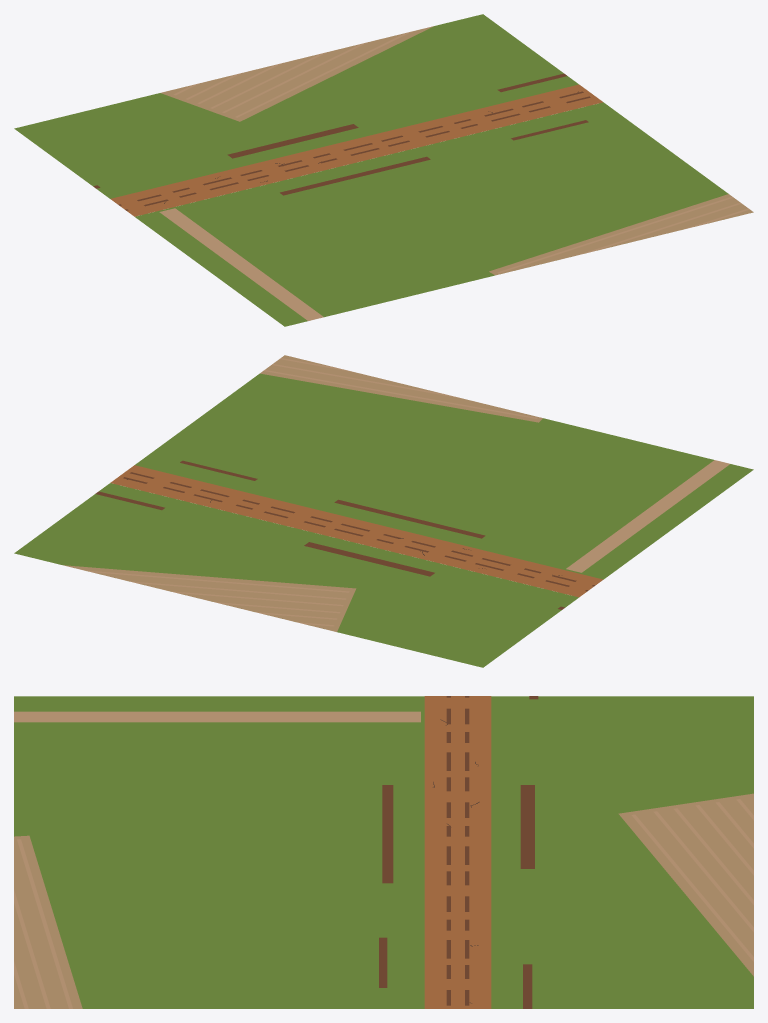
File: crossing-7-6.glb
3 renders of one model, top to bottom at view 1: azimuth 30°, elevation 25°; view 2: azimuth 150°, elevation 25°; view 3: azimuth 270°, elevation 25°, orthographic. The views are drawn at different scales.
Parts seen in each view (by area): view 1: crossing-7-6; view 2: crossing-7-6; view 3: crossing-7-6.
Part boxes in pixels (bbox=[...]): crossing-7-6: bbox=[14, 14, 753, 326]; crossing-7-6: bbox=[14, 355, 753, 667]; crossing-7-6: bbox=[14, 696, 753, 1008].
Size of the model in its own units: 100 by 0.0135 by 100.
